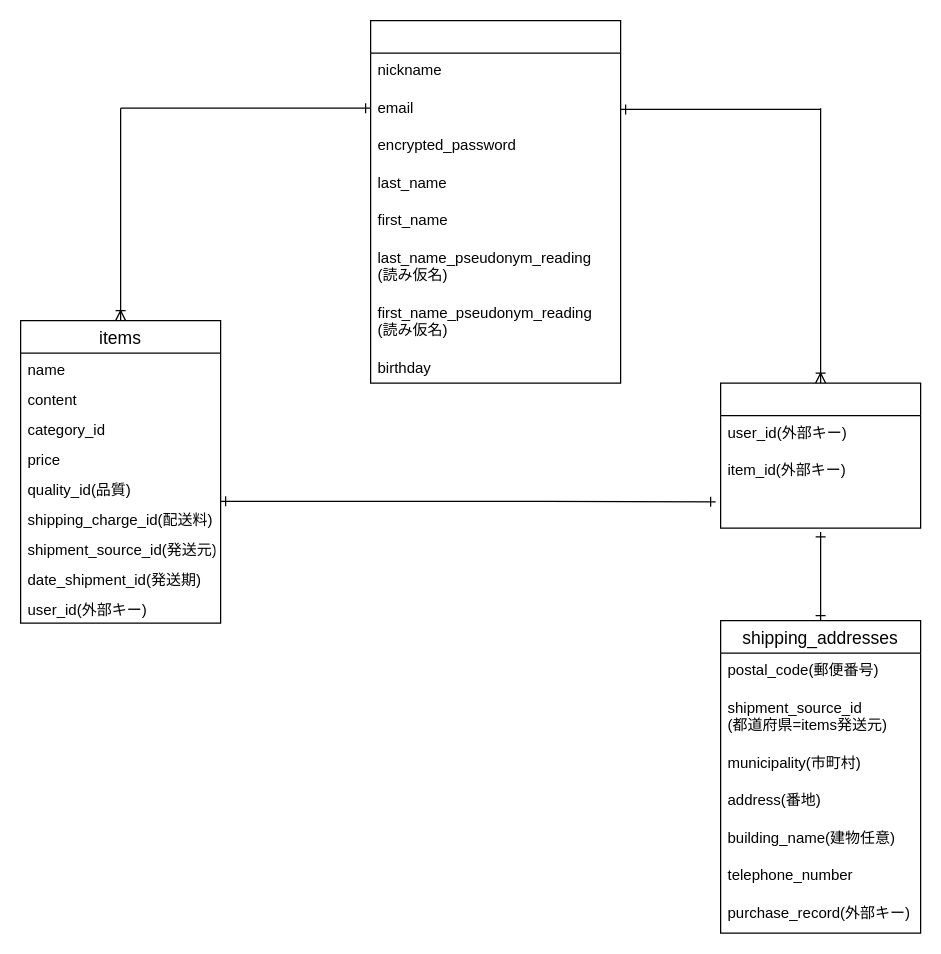
Image size: 941x954. Some labels were removed from this diagram. Each missing label, with the box of its shape:
purchase_records: (719, 382, 921, 528)
users: (369, 19, 621, 383)
